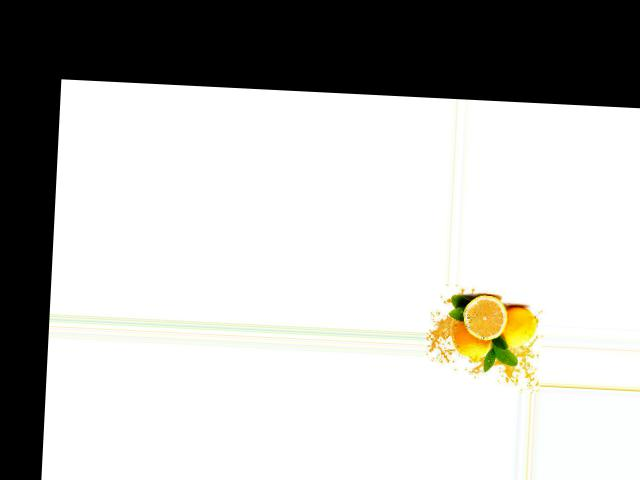lemon: (492, 303, 536, 352)
